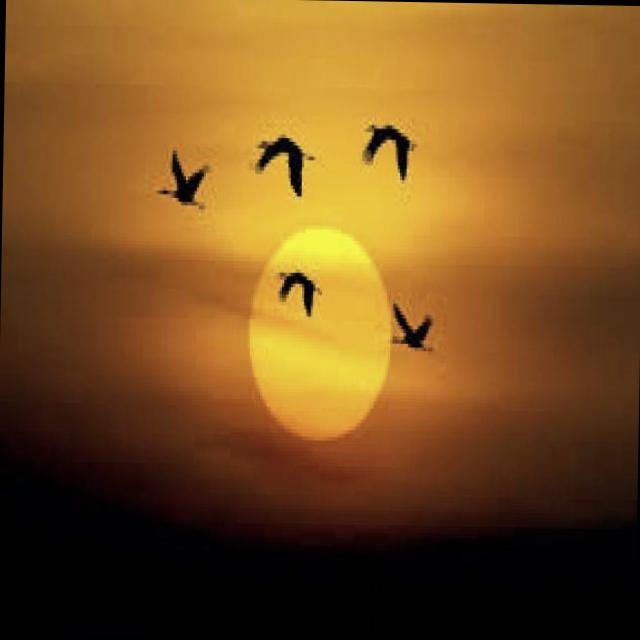bird: (242, 119, 333, 203), (154, 142, 216, 216), (270, 264, 334, 334), (382, 293, 446, 362), (354, 116, 421, 175)
